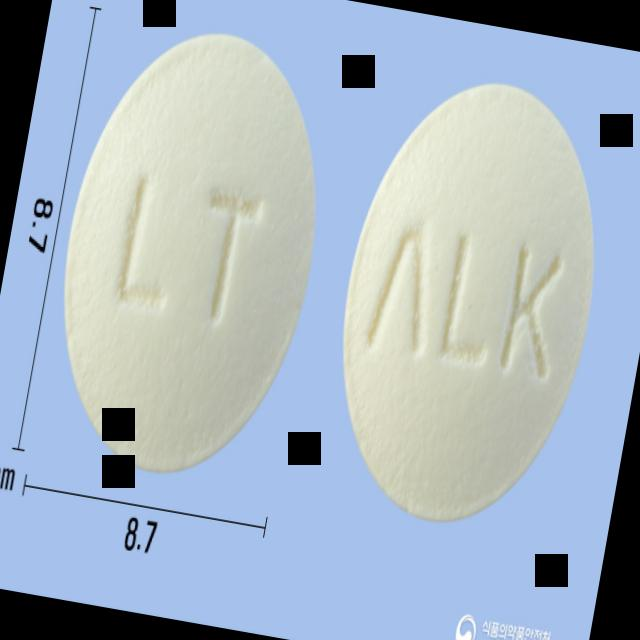Levotam: (32, 10, 349, 496), (310, 59, 628, 542)
